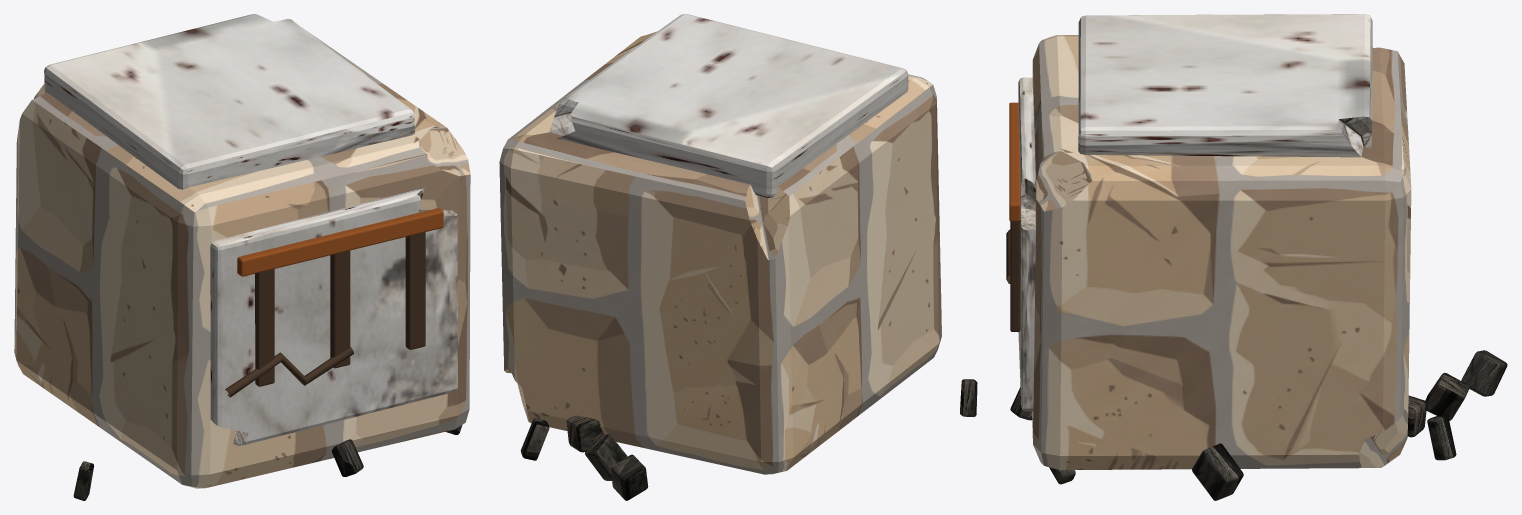
The model's file is ruin_block_060_LOD0.glb.
The picture shows the model from 3 angles, left to right: view 1: azimuth 30°, elevation 25°; view 2: azimuth 150°, elevation 25°; view 3: azimuth 270°, elevation 25°; orthographic projection. The views are drawn at different scales.
Parts seen in each view (by area): view 1: FracturedTempleAshlar, TraversalTopPlate, SurvivingTempleVeneer, TriglyphTopBand, TriglyphChannel.002, TriglyphChannel.001, TriglyphChannel, VeneerFracture, AshlarChip.002, AshlarChip.007; view 2: FracturedTempleAshlar, TraversalTopPlate, AshlarChip.006, AshlarChip, AshlarChip.004, AshlarChip.001, AshlarChip.007; view 3: FracturedTempleAshlar, TraversalTopPlate, SurvivingTempleVeneer, AshlarChip.003, AshlarChip.006, TriglyphTopBand, AshlarChip, TriglyphChannel.002, AshlarChip.001, AshlarChip.004.
Part boxes in pixels (x1=…): FracturedTempleAshlar: x1=14, y1=30, x2=470, y2=488; TraversalTopPlate: x1=44, y1=14, x2=414, y2=189; SurvivingTempleVeneer: x1=210, y1=187, x2=457, y2=445; TriglyphTopBand: x1=237, y1=208, x2=443, y2=276; TriglyphChannel.002: x1=405, y1=232, x2=425, y2=349; TriglyphChannel.001: x1=330, y1=250, x2=350, y2=368; TriglyphChannel: x1=255, y1=269, x2=274, y2=386; VeneerFracture: x1=225, y1=347, x2=353, y2=397; AshlarChip.002: x1=332, y1=439, x2=363, y2=476; AshlarChip.007: x1=73, y1=461, x2=93, y2=500; FracturedTempleAshlar: x1=499, y1=31, x2=941, y2=474; TraversalTopPlate: x1=549, y1=14, x2=908, y2=197; AshlarChip.006: x1=611, y1=454, x2=648, y2=500; AshlarChip: x1=585, y1=434, x2=627, y2=480; AshlarChip.004: x1=566, y1=415, x2=603, y2=452; AshlarChip.001: x1=520, y1=418, x2=549, y2=460; AshlarChip.007: x1=960, y1=379, x2=977, y2=416; FracturedTempleAshlar: x1=1032, y1=35, x2=1411, y2=470; TraversalTopPlate: x1=1078, y1=14, x2=1372, y2=157; SurvivingTempleVeneer: x1=1018, y1=77, x2=1035, y2=411; AshlarChip.003: x1=1192, y1=443, x2=1243, y2=500; AshlarChip.006: x1=1461, y1=350, x2=1507, y2=396; TriglyphTopBand: x1=1009, y1=102, x2=1020, y2=221; AshlarChip: x1=1425, y1=372, x2=1469, y2=420; TriglyphChannel.002: x1=1010, y1=220, x2=1020, y2=331; AshlarChip.001: x1=1427, y1=415, x2=1456, y2=460; AshlarChip.004: x1=1407, y1=395, x2=1427, y2=437.
Size of the model in its own units: 0.8493 by 0.6685 by 0.8861.
5 materials, 3 textured.
